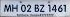character: (11, 3, 18, 13), (4, 4, 11, 12), (20, 4, 26, 12), (39, 4, 45, 12), (51, 4, 57, 12), (57, 4, 63, 12), (26, 4, 31, 12), (34, 4, 39, 12), (63, 3, 67, 13), (47, 3, 51, 12)
